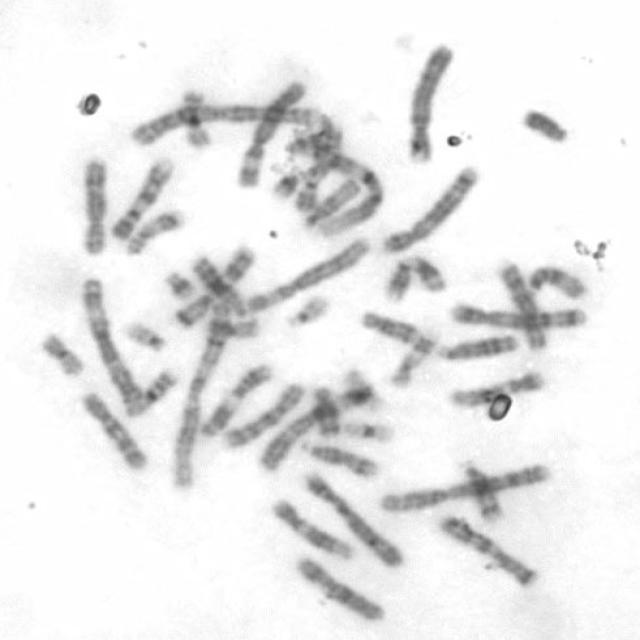A1: (168, 300, 231, 489), (284, 132, 383, 236)
A2: (379, 462, 554, 514), (128, 104, 322, 146)
A3: (256, 388, 370, 473), (79, 274, 146, 417)
B4: (302, 472, 406, 574), (406, 42, 452, 164)
B5: (381, 164, 477, 255), (450, 301, 589, 331)
C10: (77, 389, 151, 473), (223, 380, 305, 452)
C11: (198, 362, 273, 438), (385, 254, 447, 306)
C12: (271, 496, 356, 559), (449, 370, 544, 408)
C6: (245, 236, 372, 315), (235, 80, 308, 188)
C7: (438, 511, 541, 588), (170, 246, 256, 331)
C8: (495, 256, 549, 351), (81, 157, 111, 259)
C9: (108, 156, 175, 242), (292, 118, 343, 212)
D13: (189, 256, 249, 318), (438, 336, 523, 360)
D14: (297, 438, 382, 481), (459, 459, 506, 524)
D15: (302, 178, 362, 228), (527, 265, 589, 301)
E16: (132, 367, 178, 414)
E17: (387, 328, 441, 390), (122, 208, 182, 258)
E18: (358, 309, 420, 345), (309, 386, 341, 438)
F19: (342, 368, 388, 414), (340, 422, 395, 444)
F20: (178, 86, 212, 150), (39, 332, 86, 378)
G21: (267, 162, 301, 198), (163, 271, 198, 302)
G22: (284, 294, 330, 330), (124, 319, 165, 352)
X: (291, 555, 388, 623)
Y: (519, 105, 573, 144)
